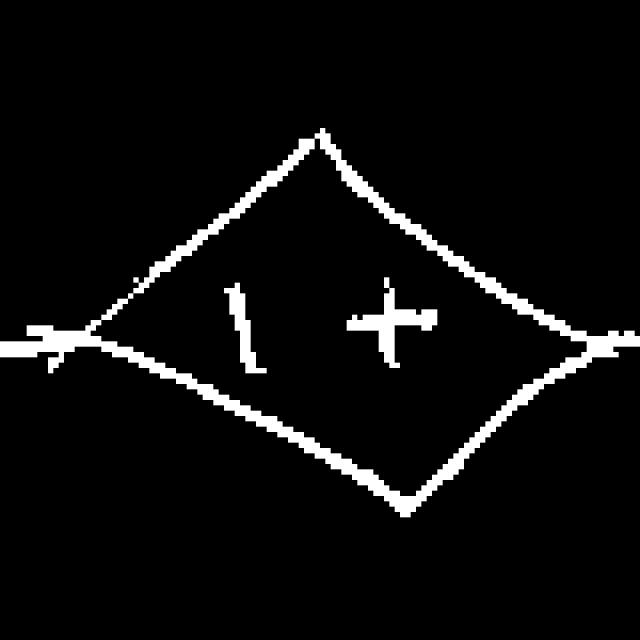dependant_voltage: (78, 120, 608, 518)
